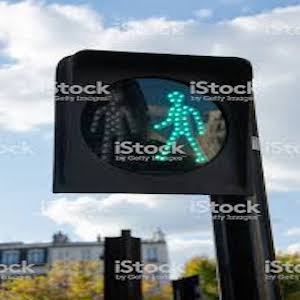green: (145, 90, 208, 159)
